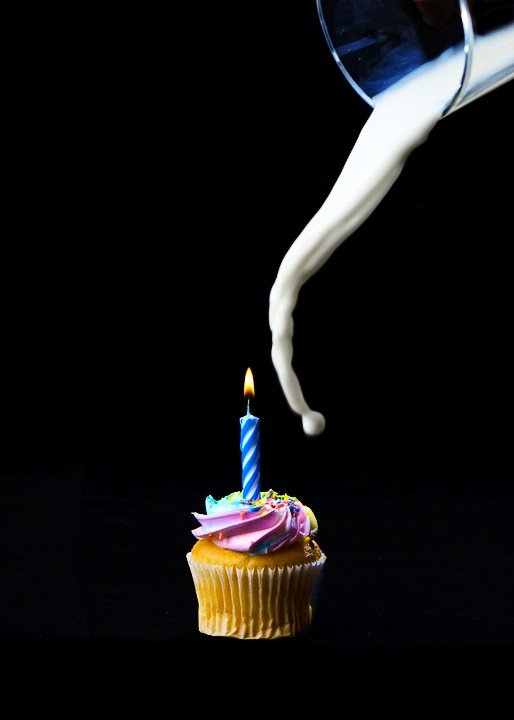glass of milk: (262, 3, 514, 453)
